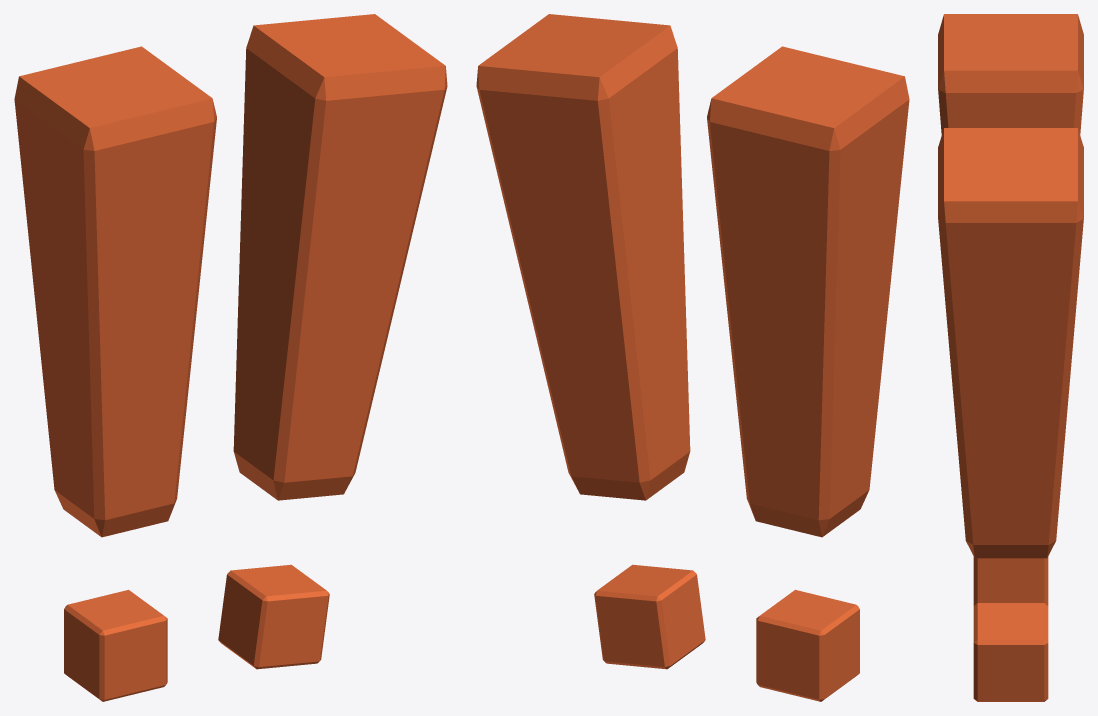
File: 1009_exclamation.fbx
3 views of the same model, side by side, from view 1: azimuth 30°, elevation 25°; view 2: azimuth 150°, elevation 25°; view 3: azimuth 270°, elevation 25° (orthographic). The views are drawn at different scales.
Parts seen in each view (by area): view 1: Cube.003, Cube, Cube.001, Cube.002; view 2: Cube.003, Cube, Cube.001, Cube.002; view 3: Cube.003, Cube, Cube.002, Cube.001.
Part boxes in pixels (x1,y1,x2,y2): Cube.003: (233, 14, 447, 500); Cube: (14, 46, 216, 537); Cube.001: (64, 589, 167, 701); Cube.002: (218, 564, 329, 669); Cube.003: (476, 14, 690, 500); Cube: (707, 46, 909, 537); Cube.001: (756, 589, 859, 701); Cube.002: (594, 564, 705, 669); Cube.003: (938, 128, 1083, 558); Cube: (938, 14, 1083, 134); Cube.002: (973, 603, 1048, 701); Cube.001: (973, 557, 1048, 605).
Bounding box in the file's own units: 26.7 × 42.63 × 9.8.
